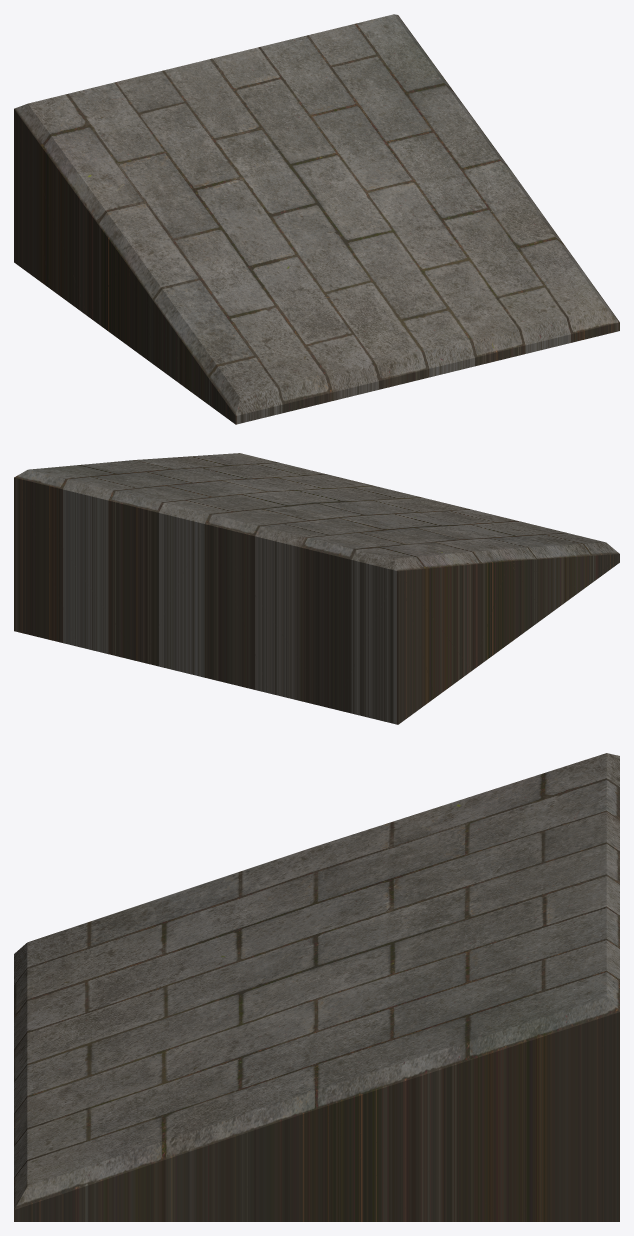
File: world2.obj
3 renders of one model, top to bottom at view 1: azimuth 30°, elevation 25°; view 2: azimuth 150°, elevation 25°; view 3: azimuth 270°, elevation 25°, orthographic. The views are drawn at different scales.
Visible parts, largest first — view 1: roof; view 2: roof; view 3: roof.
Part boxes in pixels (left/top/right/bottom): roof: left=14, top=14, right=619, bottom=424; roof: left=14, top=453, right=619, bottom=724; roof: left=14, top=753, right=619, bottom=1221.
Size of the model in its own units: 22 by 9.77 by 22.
